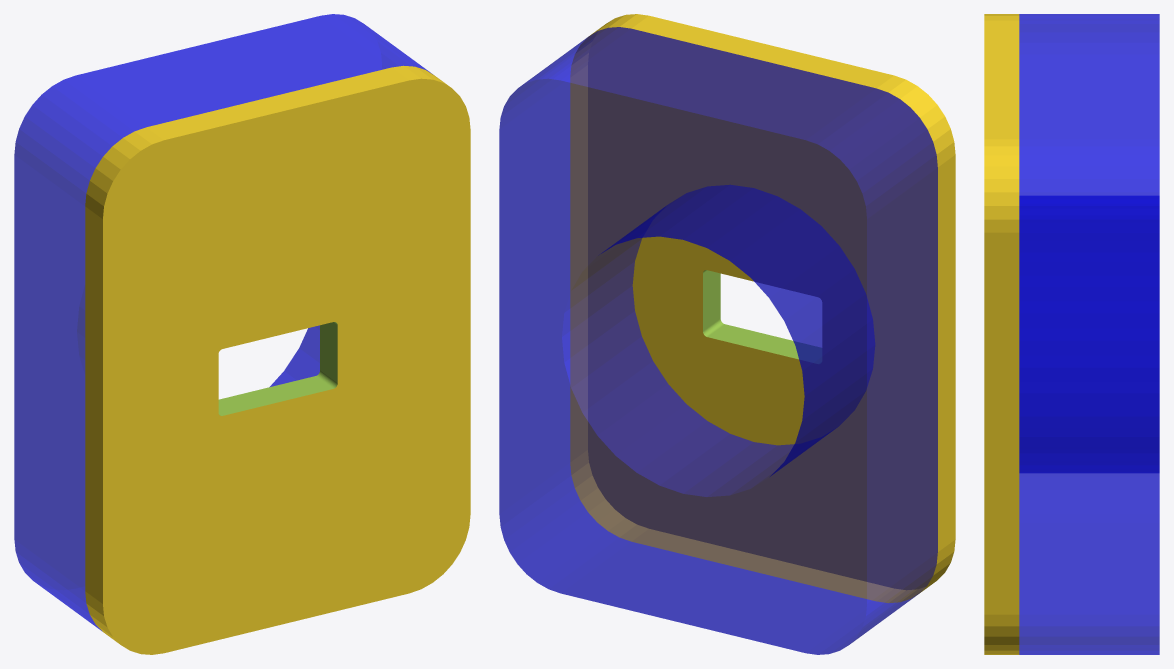
Rendered from stamp--uploaded.glb.
3 renders of one model, left to right at view 1: azimuth 30°, elevation 25°; view 2: azimuth 150°, elevation 25°; view 3: azimuth 270°, elevation 25°, orthographic.
Bounding box in the file's own units: 0.03 × 0.04 × 0.0125.
